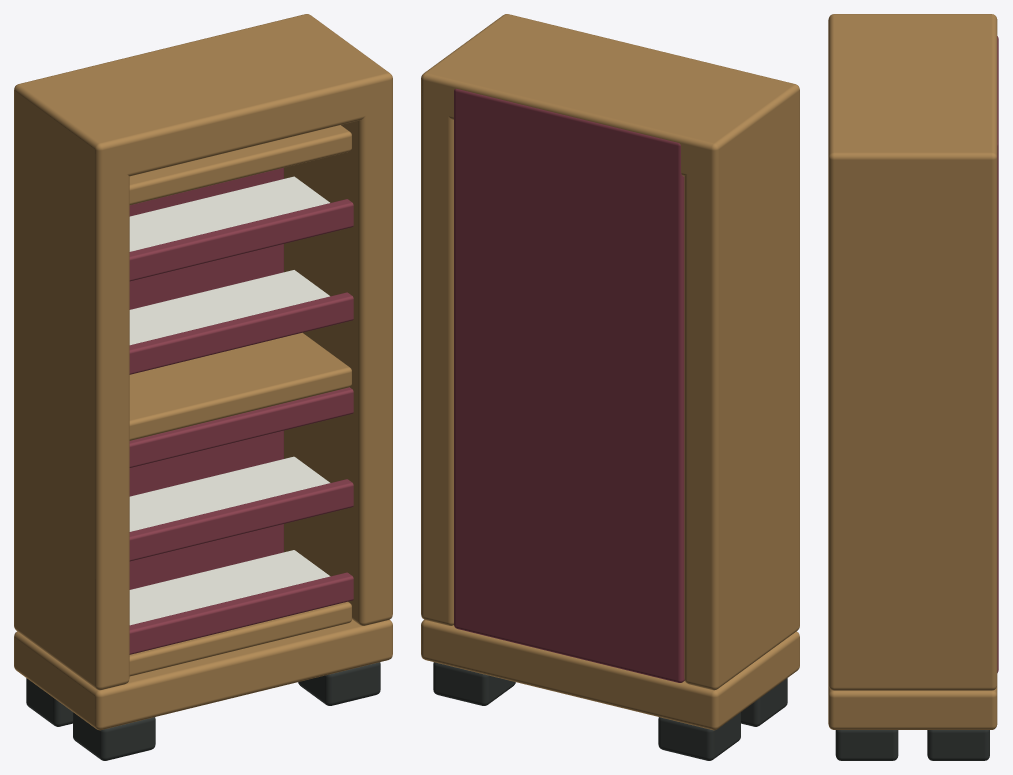
Rendered from abandoned-puppet-theatre-and-prop-vault-programme-cabi-78615800__31076.glb.
The picture shows the model from 3 angles, left to right: view 1: azimuth 30°, elevation 25°; view 2: azimuth 150°, elevation 25°; view 3: azimuth 270°, elevation 25°; orthographic projection.
Visible parts, largest first — view 1: programme-cabinet; view 2: programme-cabinet; view 3: programme-cabinet.
Part boxes in pixels (<box>): programme-cabinet: <box>14,14,392,760</box>; programme-cabinet: <box>421,14,799,760</box>; programme-cabinet: <box>828,14,998,760</box>.
Bounding box in the file's own units: 0.7001 × 1.4 × 0.3525.
